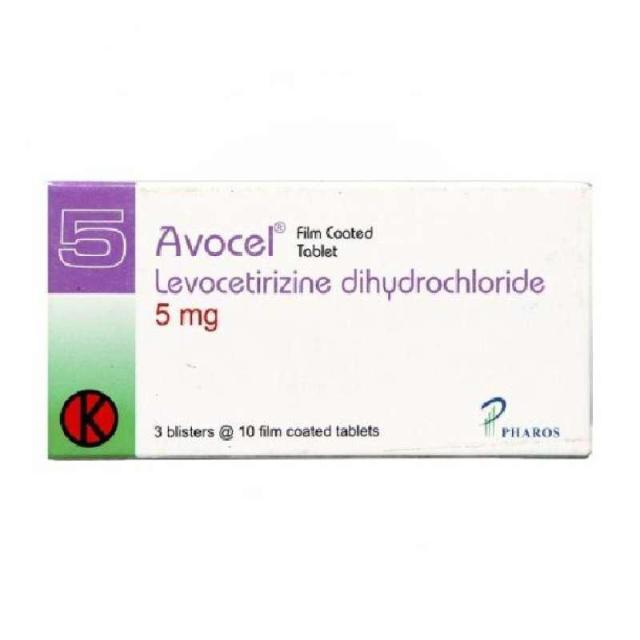drug-name: (152, 222, 292, 262)
